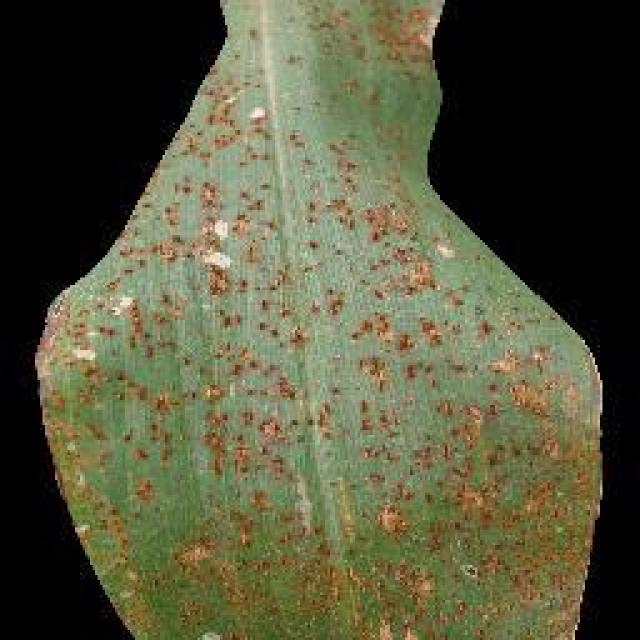Corn Common Rust: (160, 150, 540, 618)
